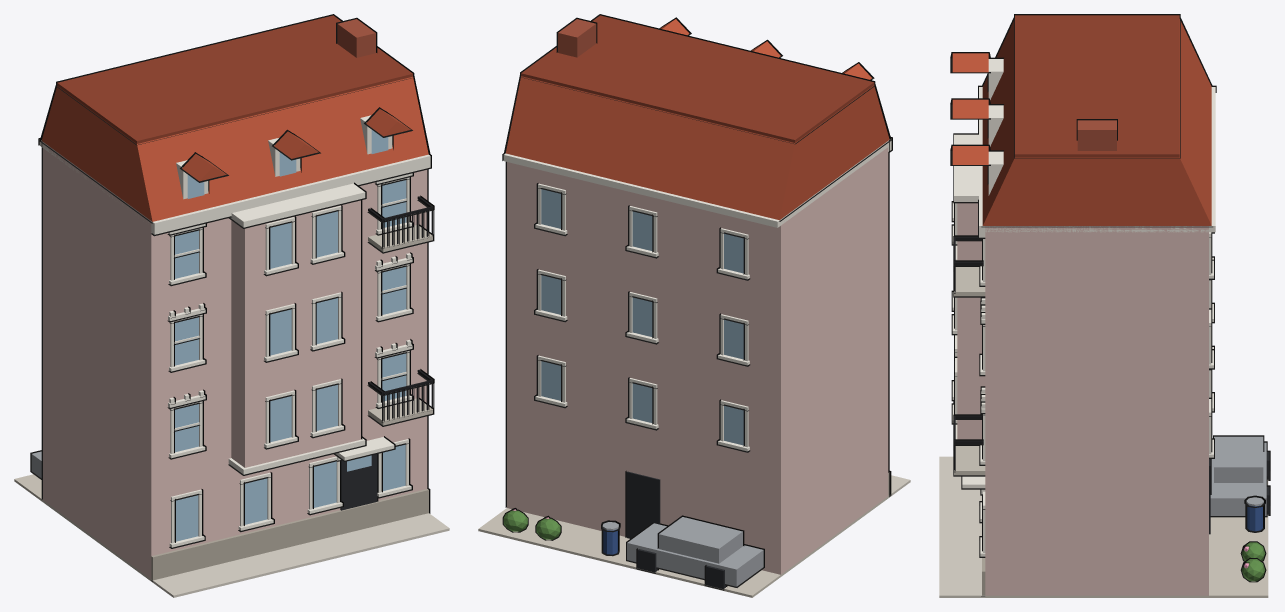
Rendered from Blok_duz_4k_8.fbx.
3 renders of one model, left to right at view 1: azimuth 30°, elevation 25°; view 2: azimuth 150°, elevation 25°; view 3: azimuth 270°, elevation 25°, orthographic. The views are drawn at different scales.
Visible parts, largest first — view 1: Blok_duz_4k_8; view 2: Blok_duz_4k_8; view 3: Blok_duz_4k_8.
Part boxes in pixels (x1,y1,x2,y2): Blok_duz_4k_8: (14, 14, 449, 597); Blok_duz_4k_8: (478, 14, 910, 597); Blok_duz_4k_8: (939, 14, 1270, 597).
Size of the model in its own units: 10.1 by 15.61 by 10.07.
